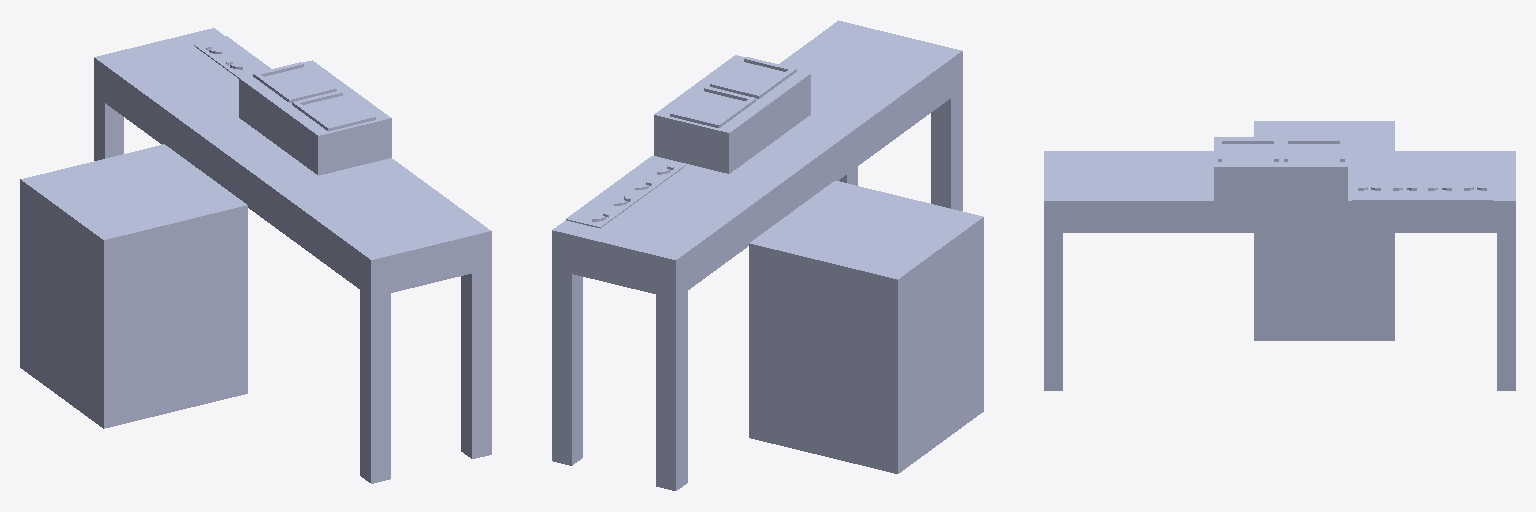
URDF robot description (demo_table_final):
<?xml version="1.0" encoding="utf-8"?>
<!-- This URDF was automatically created by SolidWorks to URDF Exporter! Originally created by [author] ([email redacted]) 
     Commit Version: 1.6.0-1-g15f4949  Build Version: 1.6.7594.29634
     For more information, please see http://wiki.ros.org/sw_urdf_exporter -->
<robot
  name="demo_table_final">
  <link
    name="robot_table_link">
    <inertial>
      <origin
        xyz="-0.105 -0.05 -0.375"
        rpy="0 0 0" />
      <mass
        value="270" />
      <inertia
        ixx="20.75625"
        ixy="9.3207792197652E-16"
        ixz="-6.95496724866511E-16"
        iyy="20.75625"
        iyz="-4.46389240706941E-16"
        izz="16.2" />
    </inertial>
    <visual>
      <origin
        xyz="0 0 0"
        rpy="0 0 0" />
      <geometry>
        <mesh
          filename="package://demo_table_final/meshes/robot_table_link.STL" />
      </geometry>
      <material
        name="">
        <color
          rgba="0.792156862745098 0.819607843137255 0.933333333333333 1" />
      </material>
    </visual>
    <collision>
      <origin
        xyz="0 0 0"
        rpy="0 0 0" />
      <geometry>
        <mesh
          filename="package://demo_table_final/meshes/robot_table_link.STL" />
      </geometry>
    </collision>
  </link>
  <link
    name="table_link">
    <inertial>
      <origin
        xyz="0.00402126708859457 0.035508393002459 -0.124898664646273"
        rpy="0 0 0" />
      <mass
        value="168.944" />
      <inertia
        ixx="8.44699759847205"
        ixy="-1.30104260698261E-15"
        ixz="-2.60208521396521E-15"
        iyy="71.945357598472"
        iyz="3.18207682075481E-15"
        izz="71.4394277333333" />
    </inertial>
    <visual>
      <origin
        xyz="0 0 0"
        rpy="0 0 0" />
      <geometry>
        <mesh
          filename="package://demo_table_final/meshes/table_link.STL" />
      </geometry>
      <material
        name="">
        <color
          rgba="0.792156862745098 0.819607843137255 0.933333333333333 1" />
      </material>
    </visual>
    <collision>
      <origin
        xyz="0 0 0"
        rpy="0 0 0" />
      <geometry>
        <mesh
          filename="package://demo_table_final/meshes/table_link.STL" />
      </geometry>
    </collision>
  </link>
  <joint
    name="tabke_joint"
    type="fixed">
    <origin
      xyz="0.409491606997541 -0.235978732911405 0.139999999999999"
      rpy="0 0 -1.5707963267949" />
    <parent
      link="robot_table_link" />
    <child
      link="table_link" />
    <axis
      xyz="0 0 0" />
  </joint>
  <link
    name="cup_table_link">
    <inertial>
      <origin
        xyz="-0.00488252735290881 0.0750000000000001 -0.0014947488016297"
        rpy="0 0 0" />
      <mass
        value="0.485007210626774" />
      <inertia
        ixx="0.0144827661603697"
        ixy="6.37638257355761E-19"
        ixz="1.5226158759248E-05"
        iyy="0.000767879681095258"
        iyz="2.78003444654154E-20"
        izz="0.0152414793054048" />
    </inertial>
    <visual>
      <origin
        xyz="0 0 0"
        rpy="0 0 0" />
      <geometry>
        <mesh
          filename="package://demo_table_final/meshes/cup_table_link.STL" />
      </geometry>
      <material
        name="">
        <color
          rgba="0.792156862745098 0.819607843137255 0.933333333333333 1" />
      </material>
    </visual>
    <collision>
      <origin
        xyz="0 0 0"
        rpy="0 0 0" />
      <geometry>
        <mesh
          filename="package://demo_table_final/meshes/cup_table_link.STL" />
      </geometry>
    </collision>
  </link>
  <joint
    name="cup_table_joint"
    type="fixed">
    <origin
      xyz="-0.525978732911406 0.215557219161956 0.005"
      rpy="0 0 1.5707963267949" />
    <parent
      link="table_link" />
    <child
      link="cup_table_link" />
    <axis
      xyz="0 0 0" />
  </joint>
  <link
    name="plate_table_link">
    <inertial>
      <origin
        xyz="0.0821309141789029 -0.14 -0.0780889544369172"
        rpy="0 0 0" />
      <mass
        value="27.7659" />
      <inertia
        ixx="0.812008207991436"
        ixy="-2.15177346128204E-17"
        ixz="0.000861743605069532"
        iyy="0.273754933724942"
        iyz="1.39808683446883E-17"
        izz="0.967215330733505" />
    </inertial>
    <visual>
      <origin
        xyz="0 0 0"
        rpy="0 0 0" />
      <geometry>
        <mesh
          filename="package://demo_table_final/meshes/plate_table_link.STL" />
      </geometry>
      <material
        name="">
        <color
          rgba="0.792156862745098 0.819607843137255 0.933333333333333 1" />
      </material>
    </visual>
    <collision>
      <origin
        xyz="0 0 0"
        rpy="0 0 0" />
      <geometry>
        <mesh
          filename="package://demo_table_final/meshes/plate_table_link.STL" />
      </geometry>
    </collision>
  </link>
  <joint
    name="plate_table_joint"
    type="fixed">
    <origin
      xyz="-0.140978732911405 0.050508393002459 0.158"
      rpy="0 0 1.5707963267949" />
    <parent
      link="table_link" />
    <child
      link="plate_table_link" />
    <axis
      xyz="0 0 0" />
  </joint>
</robot>

--- Facts derived from the render (not from the file) ---
3 views of the same robot in one strip: view 1: azimuth 30°, elevation 25°; view 2: azimuth 150°, elevation 25°; view 3: azimuth 270°, elevation 25° (orthographic).
Model demo_table_final with 4 links and 3 joints (3 fixed), rooted at robot_table_link, posed every joint at zero.
Links seen in each view (by area): view 1: robot_table_link, table_link, plate_table_link, cup_table_link; view 2: robot_table_link, table_link, plate_table_link, cup_table_link; view 3: table_link, robot_table_link, plate_table_link, cup_table_link.
Link boxes in pixels (x1=…): robot_table_link: x1=20, y1=144, x2=247, y2=428; table_link: x1=94, y1=28, x2=491, y2=483; plate_table_link: x1=239, y1=60, x2=391, y2=175; cup_table_link: x1=194, y1=36, x2=270, y2=78; robot_table_link: x1=749, y1=181, x2=983, y2=473; table_link: x1=552, y1=20, x2=962, y2=490; plate_table_link: x1=654, y1=55, x2=810, y2=173; cup_table_link: x1=566, y1=156, x2=685, y2=228; table_link: x1=1044, y1=151, x2=1515, y2=390; robot_table_link: x1=1254, y1=121, x2=1394, y2=340; plate_table_link: x1=1214, y1=137, x2=1347, y2=200; cup_table_link: x1=1352, y1=185, x2=1492, y2=200.
Size in the robot's own frame: 1.1 by 2 by 1.06 metres.
Meshes: 4 distinct files referenced, 4 mesh visuals loaded (4 binary STL).